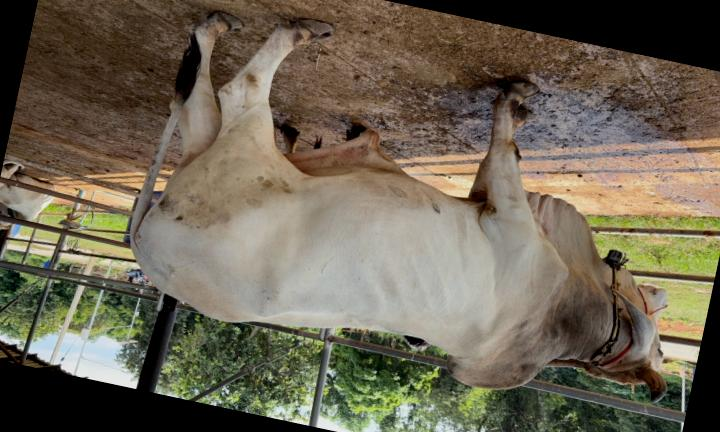Brahman: (130, 13, 666, 401)
